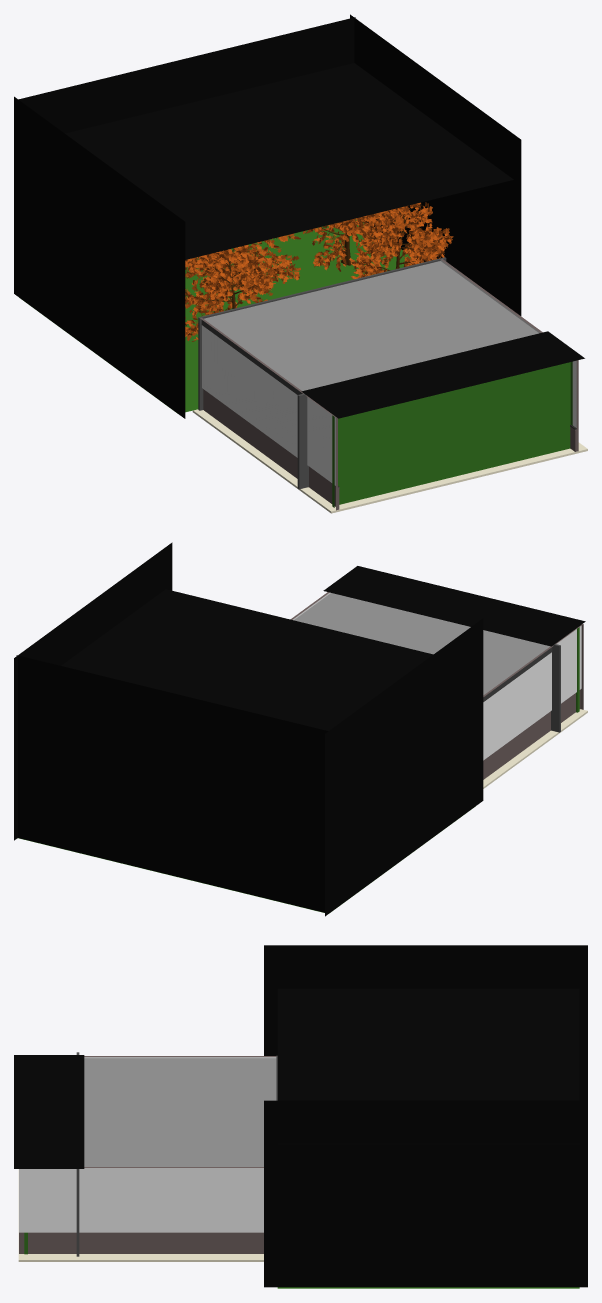
The model's file is TeamSoftwareEngeneerMapv4.fbx.
3 renders of one model, top to bottom at view 1: azimuth 30°, elevation 25°; view 2: azimuth 150°, elevation 25°; view 3: azimuth 270°, elevation 25°, orthographic. The views are drawn at different scales.
Parts seen in each view (by area): view 1: OutSideroof, OutSideWall1, Roof, RommWall(outside), OutSideWall3, OutSideWall2, Leftwall, Plane006, OutSidefloor, Foliage003, Foliage004, Floor (+5 smaller); view 2: OutSideWall2, OutSideWall1, OutSideroof, Roof, Plane006, Leftwall, OutSideWall3, Floor, RoomWall1; view 3: OutSideWall3, OutSideroof, Leftwall001, Roof, OutSideWall1, Plane006, Floor, OutSidefloor, Leftwall.
Boxes of the visible parts, <box> form: OutSideroof: <box>65,63,513,259</box>; OutSideWall1: <box>14,96,185,418</box>; Roof: <box>201,261,538,394</box>; RommWall(outside): <box>332,361,572,507</box>; OutSideWall3: <box>350,14,521,315</box>; OutSideWall2: <box>18,17,355,133</box>; Leftwall: <box>200,318,339,510</box>; Plane006: <box>301,331,584,418</box>; OutSidefloor: <box>23,219,419,413</box>; Foliage003: <box>185,245,282,341</box>; Foliage004: <box>347,202,453,278</box>; Floor: <box>192,409,587,513</box>; OutSideWall2: <box>16,655,328,912</box>; OutSideWall1: <box>325,618,483,916</box>; OutSideroof: <box>61,589,433,730</box>; Roof: <box>294,593,552,701</box>; Plane006: <box>323,566,585,646</box>; Leftwall: <box>483,624,583,779</box>; OutSideWall3: <box>14,542,172,840</box>; Floor: <box>483,709,587,788</box>; RoomWall1: <box>551,644,560,732</box>; OutSideWall3: <box>264,1100,587,1287</box>; OutSideroof: <box>277,988,579,1144</box>; Leftwall001: <box>19,1167,263,1253</box>; Roof: <box>84,1058,276,1166</box>; OutSideWall1: <box>264,945,587,1100</box>; Plane006: <box>14,1055,84,1168</box>; Floor: <box>18,1169,263,1261</box>; OutSidefloor: <box>277,1287,579,1288</box>; Leftwall: <box>84,1056,276,1058</box>.
Size of the model in its own units: 8065 by 4590 by 12553.
